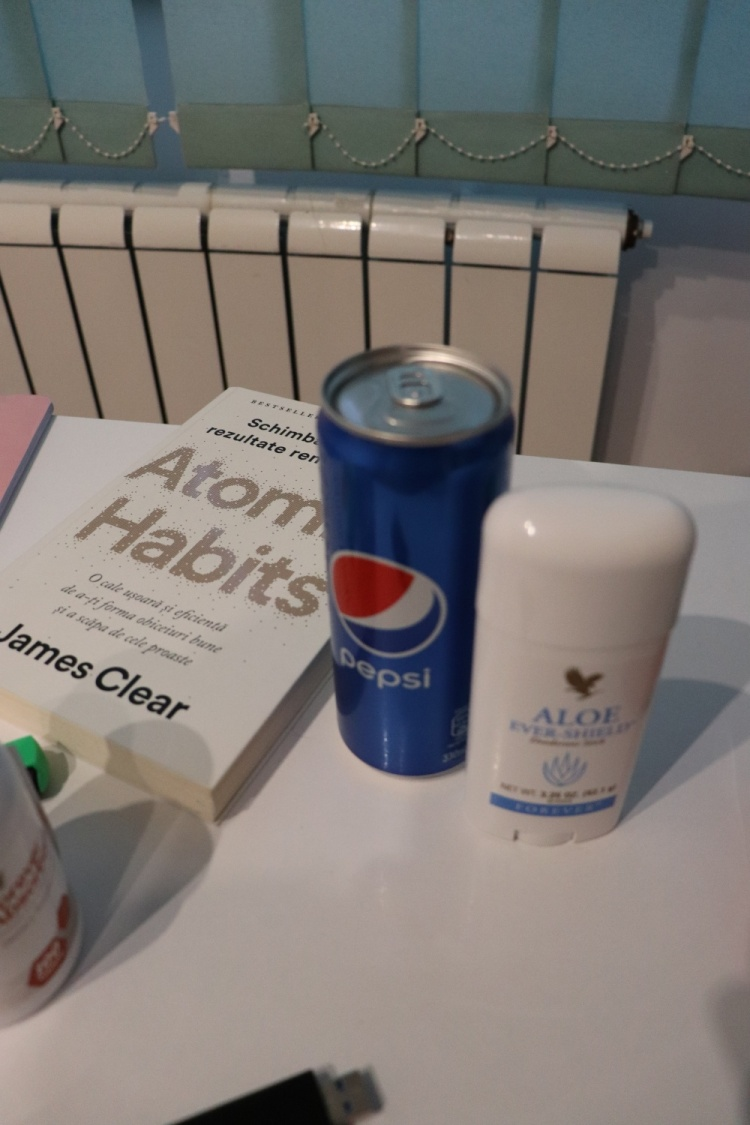pepsi: (307, 340, 477, 786)
